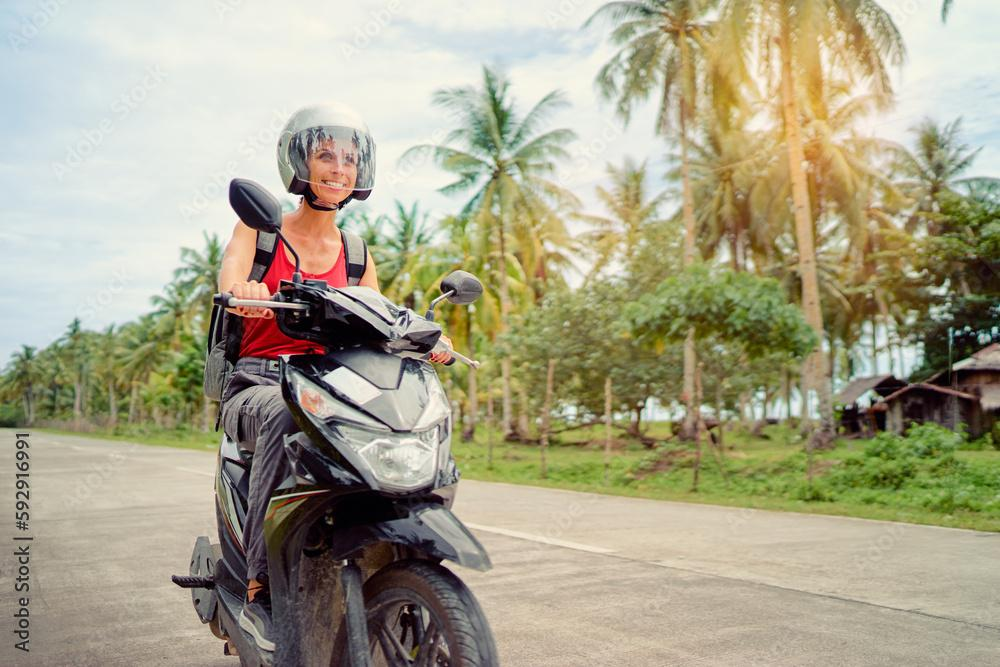helmet: (276, 98, 378, 212)
